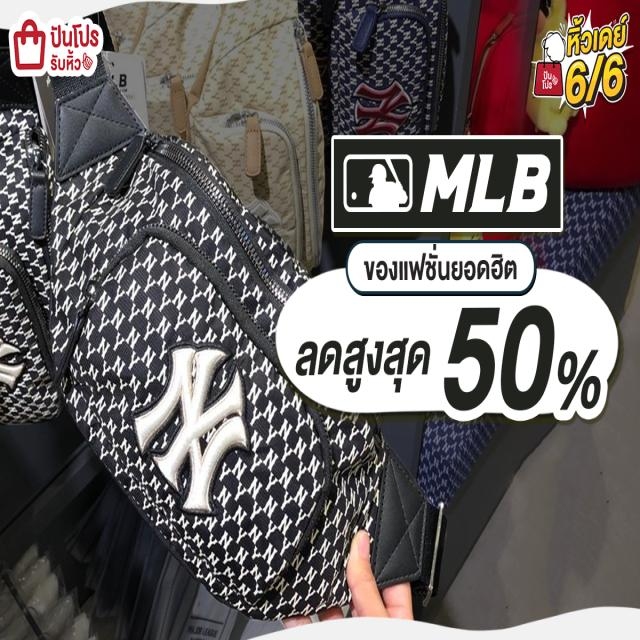Handbag: (48, 72, 427, 637)
